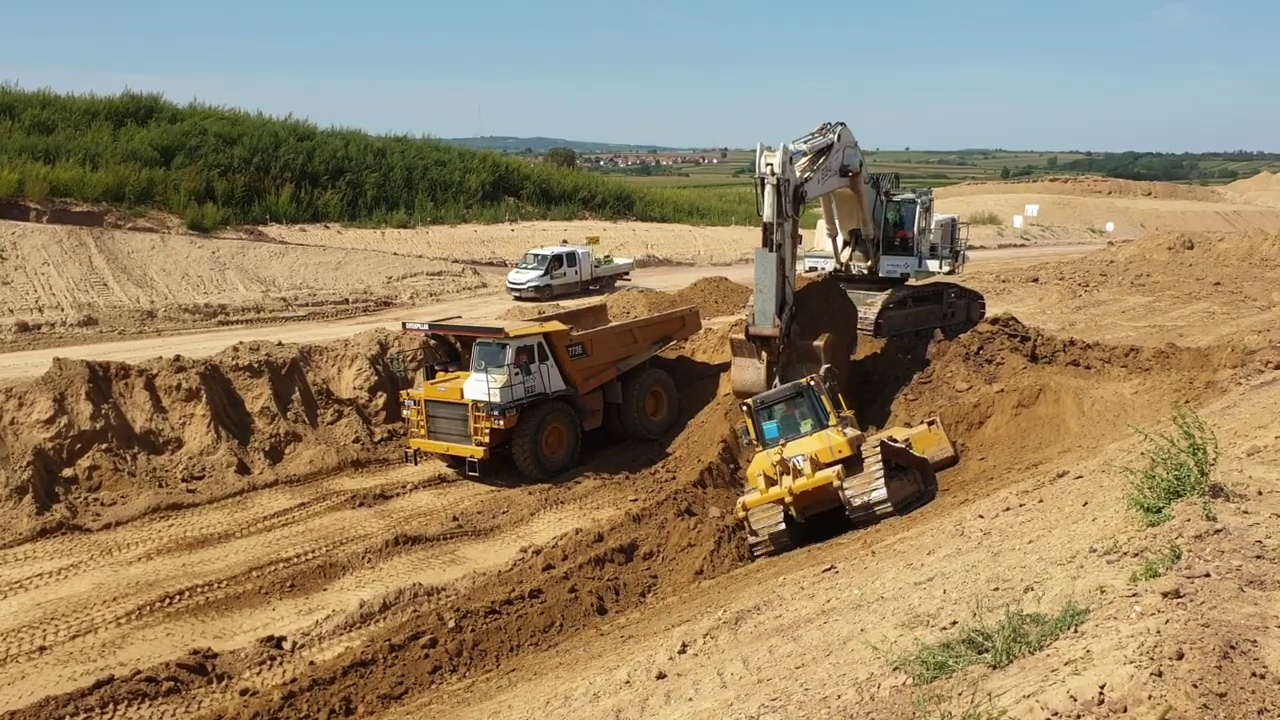bulldozer: (728, 359, 967, 565)
excavator: (726, 120, 990, 414)
truck: (399, 303, 708, 483), (505, 240, 639, 303)
